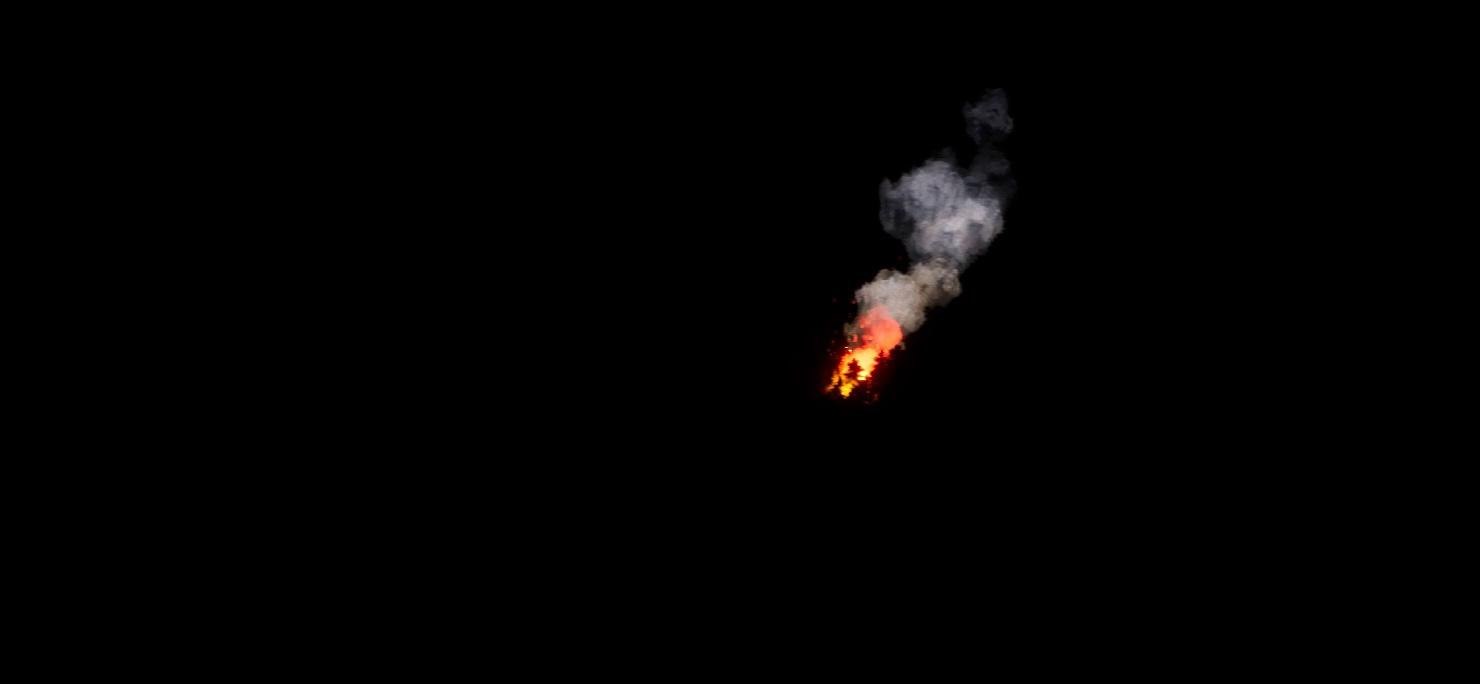fire: (826, 317, 903, 404)
smoke: (849, 160, 1006, 340)
